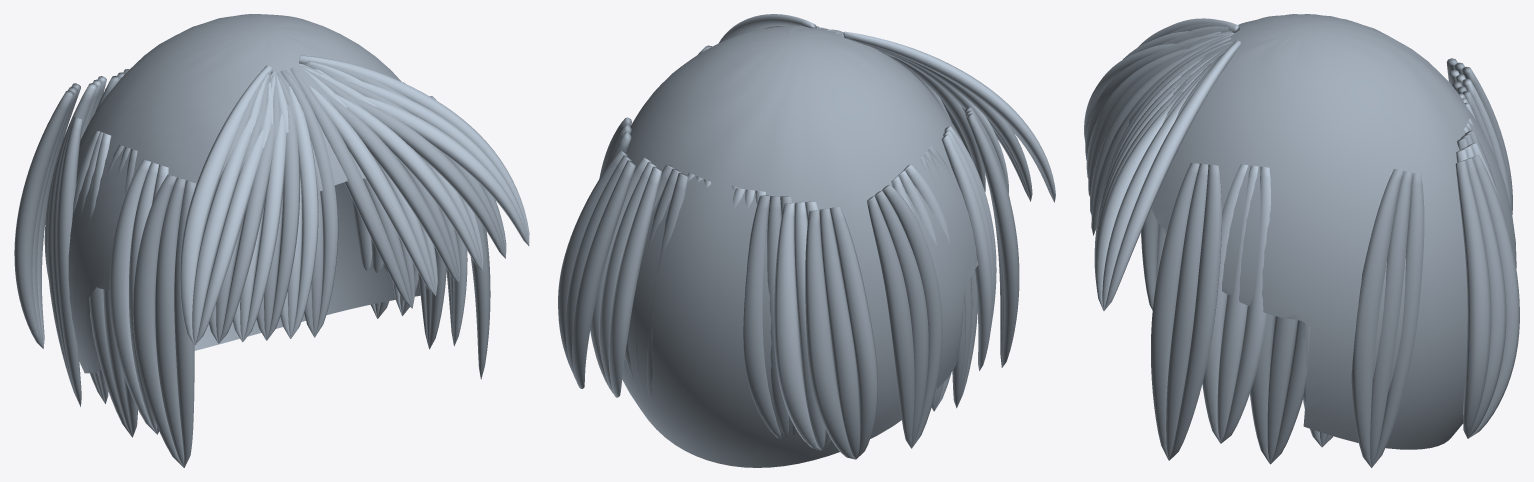
The picture shows the model from 3 angles, left to right: view 1: azimuth 30°, elevation 25°; view 2: azimuth 150°, elevation 25°; view 3: azimuth 270°, elevation 25°; orthographic projection. The views are drawn at different scales.
Visible parts, largest first — view 1: CrownHair_male_ref04, SideHair_-1_0_Strand2, SideHair_-1_0_Strand1, FrontHair_CenterPart_-1_5_Strand2, BackHair_00_Strand0, SideHair_-1_1_Strand2, SideHair_-1_4_Strand0, FrontHair_CenterPart_1_0_Strand2, FrontHair_CenterPart_-1_5_Strand1, FrontHair_CenterPart_-1_0_Strand0, FrontHair_CenterPart_1_1_Strand2, FrontHair_CenterPart_-1_1_Strand0 (+41 smaller); view 2: CrownHair_male_ref04, BackHair_00_Strand2, BackHair_01_Strand2, BackHair_00_Strand1, BackHair_00_Strand0, SideHair_-1_4_Strand2, BackHair_02_Strand2, BackHair_07_Strand0, SideHair_-1_0_Strand2, BackHair_08_Strand0, SideHair_-1_4_Strand0, SideHair_-1_4_Strand1 (+21 smaller); view 3: CrownHair_male_ref04, SideHair_1_4_Strand2, BackHair_08_Strand2, SideHair_1_0_Strand0, SideHair_1_0_Strand2, SideHair_1_0_Strand1, SideHair_1_4_Strand1, SideHair_1_4_Strand0, FrontHair_CenterPart_1_5_Strand0, SideHair_1_1_Strand0, BackHair_08_Strand1, BackHair_08_Strand0 (+22 smaller).
Boxes of the visible parts, x1,y1,x2,y2 form: CrownHair_male_ref04: [68, 14, 420, 373]; SideHair_-1_0_Strand2: [133, 174, 183, 467]; SideHair_-1_0_Strand1: [155, 177, 185, 467]; FrontHair_CenterPart_-1_5_Strand2: [180, 65, 272, 344]; BackHair_00_Strand0: [14, 90, 74, 348]; SideHair_-1_1_Strand2: [109, 159, 156, 433]; SideHair_-1_4_Strand0: [56, 117, 82, 406]; FrontHair_CenterPart_1_0_Strand2: [290, 67, 412, 308]; FrontHair_CenterPart_-1_5_Strand1: [192, 71, 275, 344]; FrontHair_CenterPart_-1_0_Strand0: [280, 70, 338, 336]; FrontHair_CenterPart_1_1_Strand2: [310, 86, 435, 295]; FrontHair_CenterPart_-1_1_Strand0: [289, 86, 318, 338]; CrownHair_male_ref04: [622, 25, 978, 467]; BackHair_00_Strand2: [805, 209, 855, 459]; BackHair_01_Strand2: [774, 203, 821, 450]; BackHair_00_Strand1: [819, 208, 860, 458]; BackHair_00_Strand0: [829, 206, 877, 458]; SideHair_-1_4_Strand2: [867, 196, 914, 448]; BackHair_02_Strand2: [743, 195, 781, 438]; BackHair_07_Strand0: [608, 166, 661, 397]; SideHair_-1_0_Strand2: [966, 113, 1019, 367]; BackHair_08_Strand0: [572, 160, 635, 388]; SideHair_-1_4_Strand0: [882, 184, 942, 447]; SideHair_-1_4_Strand1: [874, 190, 928, 447]; CrownHair_male_ref04: [1129, 14, 1516, 449]; SideHair_1_4_Strand2: [1351, 169, 1403, 467]; BackHair_08_Strand2: [1455, 160, 1491, 438]; SideHair_1_0_Strand0: [1169, 164, 1221, 460]; SideHair_1_0_Strand2: [1151, 163, 1199, 460]; SideHair_1_0_Strand1: [1166, 163, 1208, 460]; SideHair_1_4_Strand1: [1370, 171, 1412, 467]; SideHair_1_4_Strand0: [1372, 173, 1424, 467]; FrontHair_CenterPart_1_5_Strand0: [1104, 40, 1241, 310]; SideHair_1_1_Strand0: [1221, 166, 1270, 443]; BackHair_08_Strand1: [1463, 158, 1506, 438]; BackHair_08_Strand0: [1468, 155, 1519, 438].
Bounding box in the file's own units: 0.7252 × 0.7341 × 0.7431.
